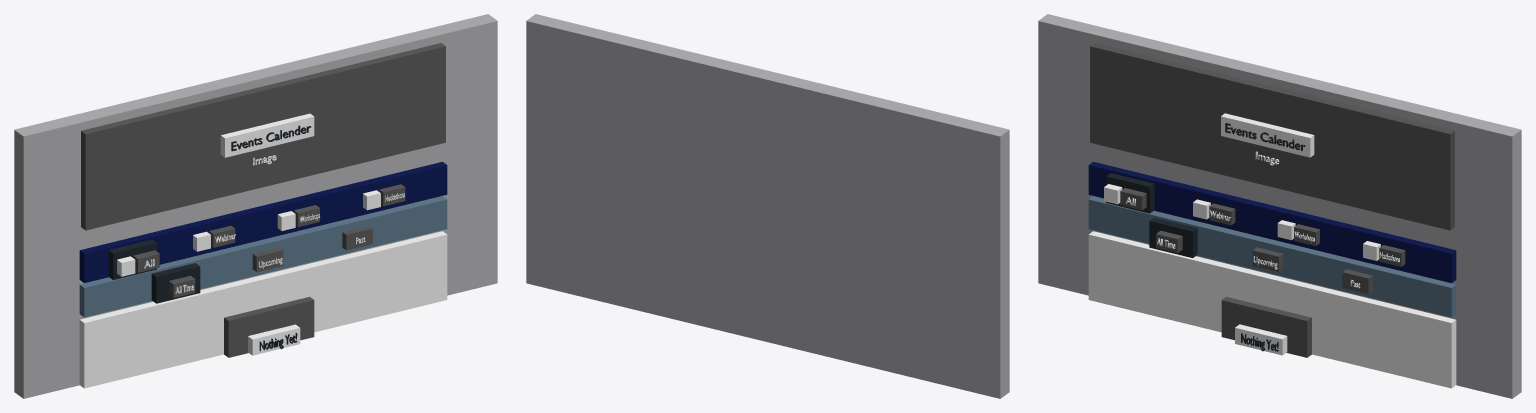
Rendered from iicEvents.glb.
The picture shows the model from 3 angles, left to right: view 1: azimuth 30°, elevation 25°; view 2: azimuth 150°, elevation 25°; view 3: azimuth 330°, elevation 25°; orthographic projection.
Parts seen in each view (by area): view 1: Cube, Cube.001, Cube.004, Cube.003, Cube.002, Cube.005, Cube.019, Cube.018, Cube.020, Cube.010, Cube.008, Cube.007 (+4 smaller); view 2: Cube; view 3: Cube, Cube.001, Cube.004, Cube.003, Cube.002, Cube.005, Cube.019, Cube.018, Cube.020, Cube.010, Cube.008, Cube.007 (+6 smaller).
Boxes of the visible parts, x1,y1,x2,y2 form: Cube: (14,14,497,398); Cube.001: (81,43,445,230); Cube.004: (79,231,447,388); Cube.003: (79,196,447,317); Cube.002: (79,161,447,283); Cube.005: (224,296,314,357); Cube.019: (220,113,314,157); Cube.018: (151,263,200,303); Cube.020: (248,324,300,355); Cube.010: (108,239,156,279); Cube.008: (342,225,372,250); Cube.007: (252,247,283,272); Cube: (526,14,1009,398); Cube: (1038,14,1521,398); Cube.001: (1090,43,1454,230); Cube.004: (1088,231,1456,388); Cube.003: (1088,196,1456,317); Cube.002: (1088,161,1456,283); Cube.005: (1221,296,1311,357); Cube.019: (1221,113,1314,157); Cube.018: (1149,217,1197,257); Cube.020: (1235,324,1287,355); Cube.010: (1106,173,1154,213); Cube.008: (1342,269,1372,293); Cube.007: (1252,247,1283,272).
Size of the model in its own units: 20.39 by 10.78 by 1.97.
